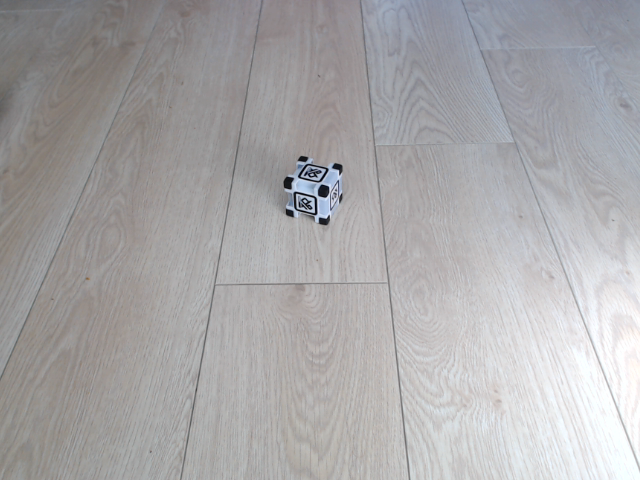block: (283, 154, 347, 226)
